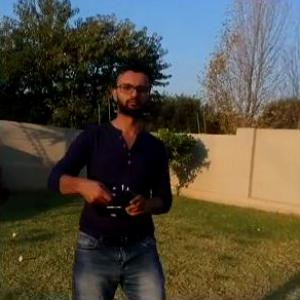follow: (41, 49, 171, 299)
